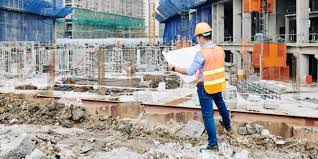casque: (168, 22, 246, 159)
